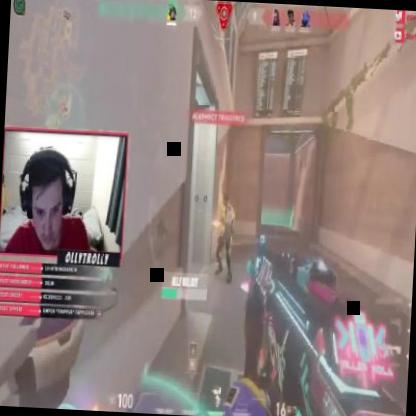enemy: (212, 193, 235, 284)
enemy_head: (222, 194, 228, 212)
